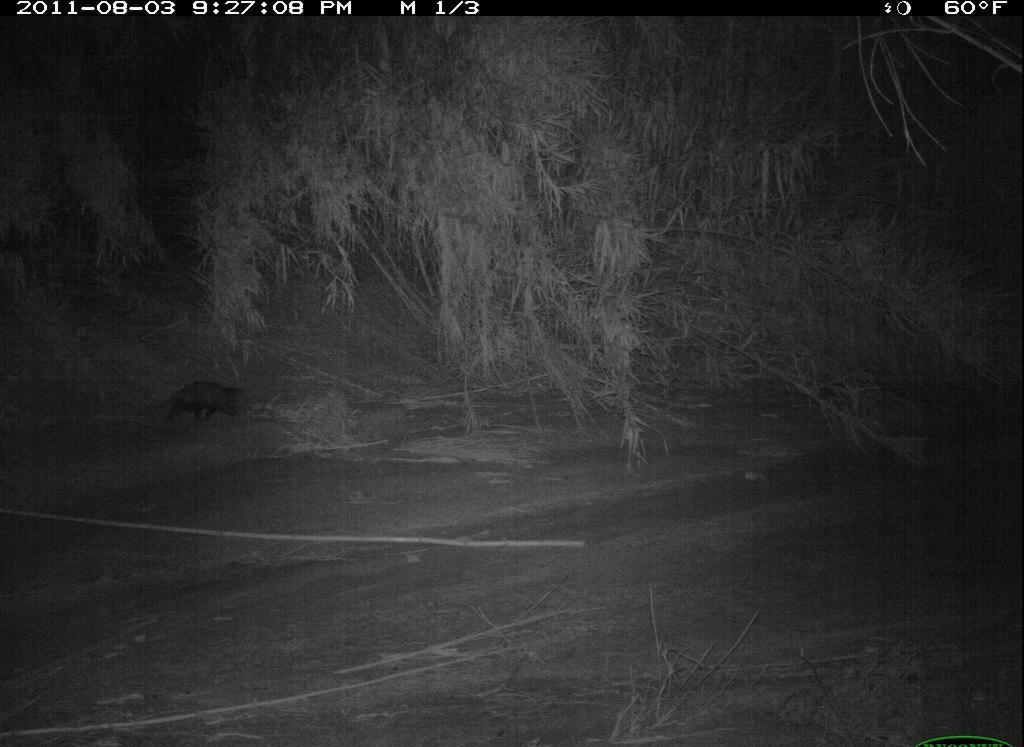opossum: (139, 363, 271, 443)
